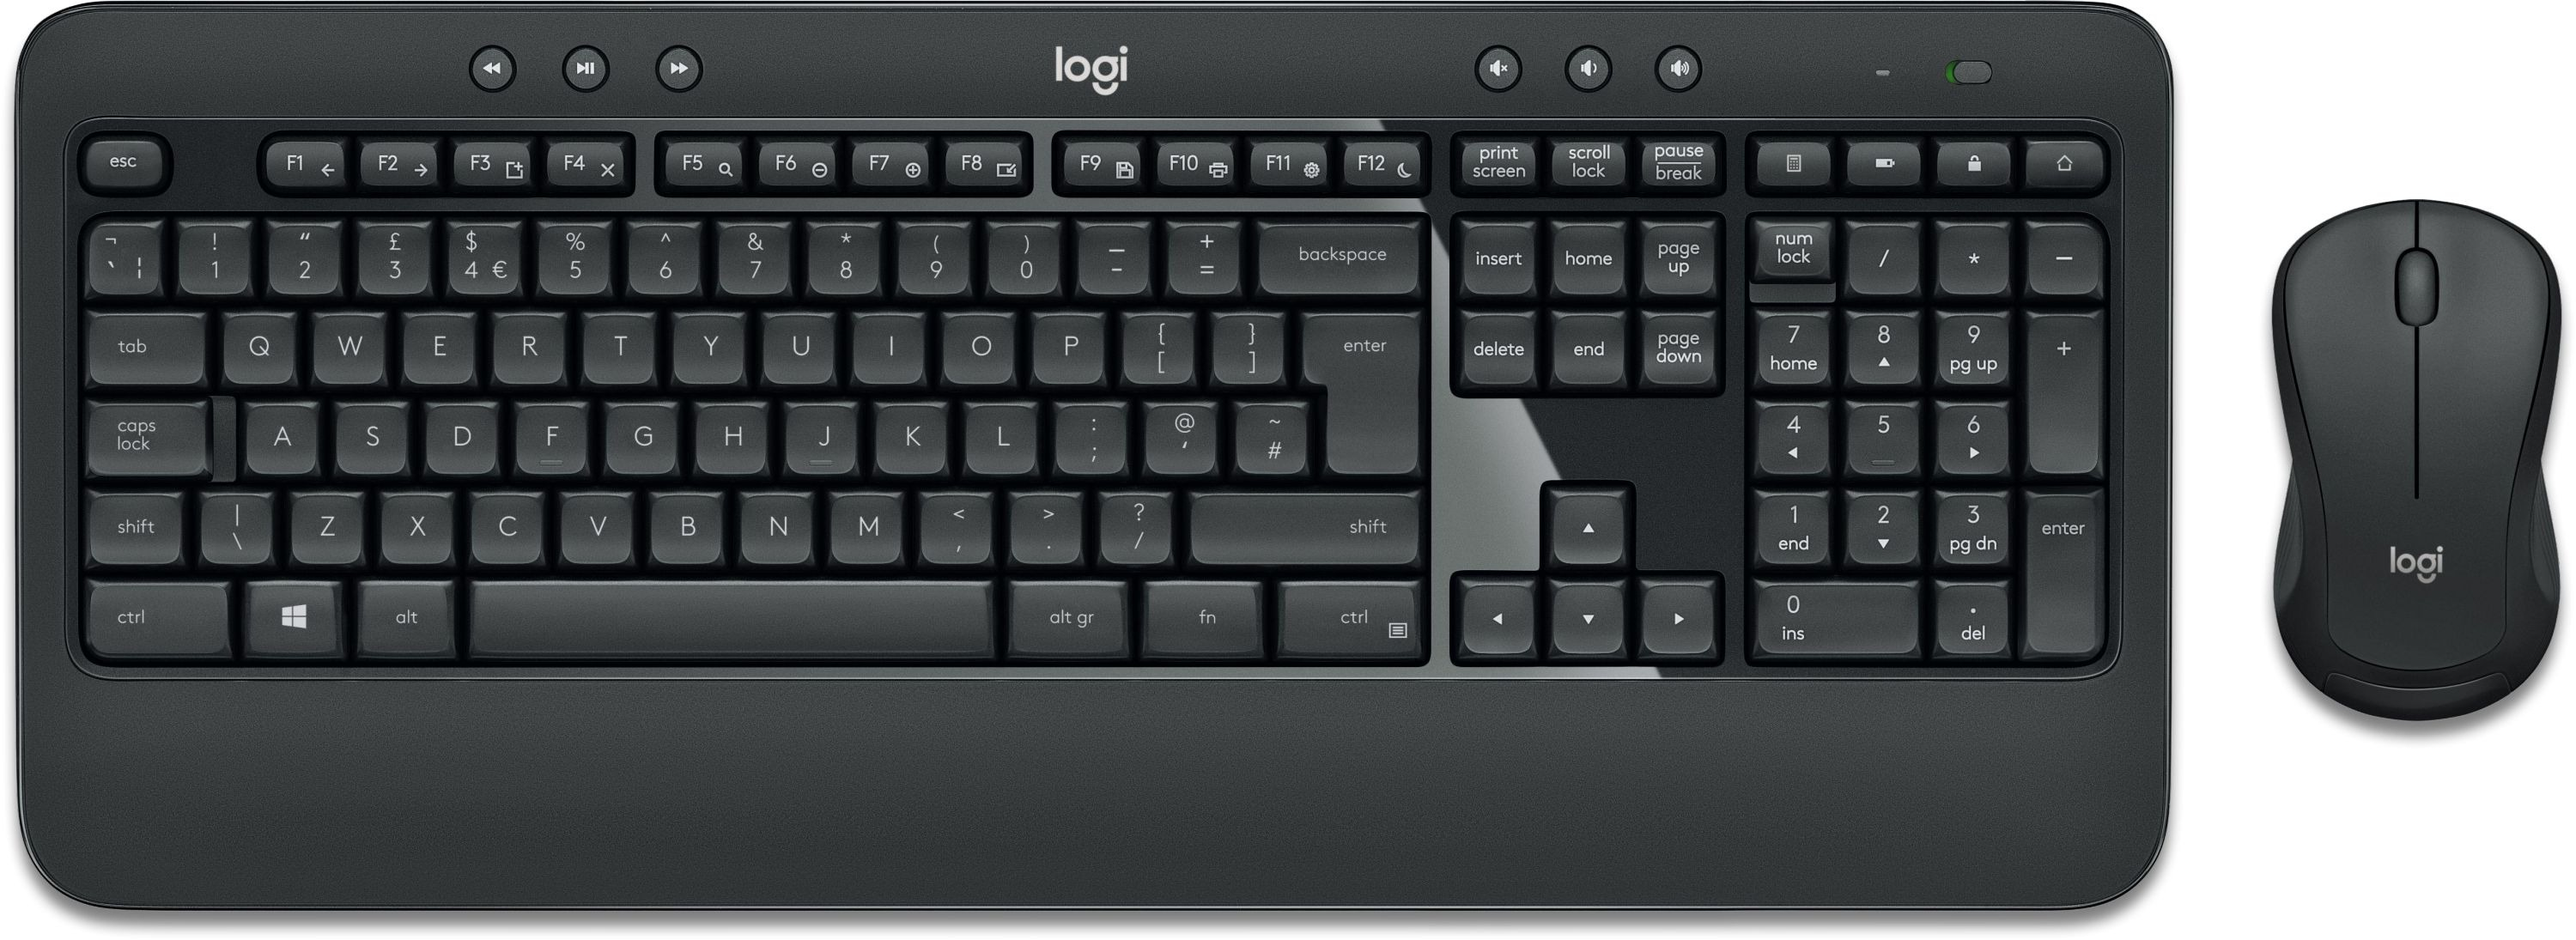keyboard: (15, 7, 2175, 927)
mouse: (2247, 166, 2573, 726)
